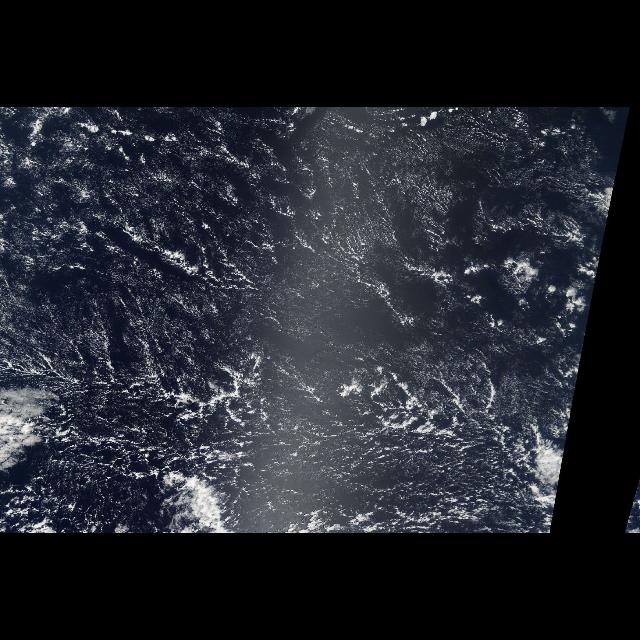Gravel: (1, 120, 522, 528)
Sugar: (235, 143, 571, 361)
